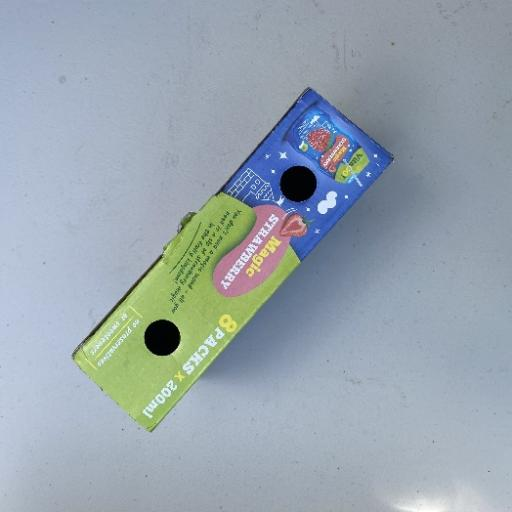Cardboard: (69, 85, 396, 433)
